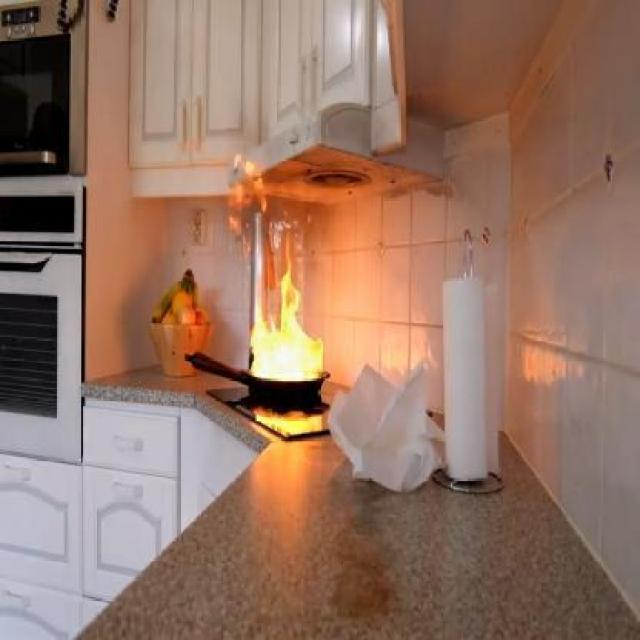Fire: (245, 267, 328, 379)
